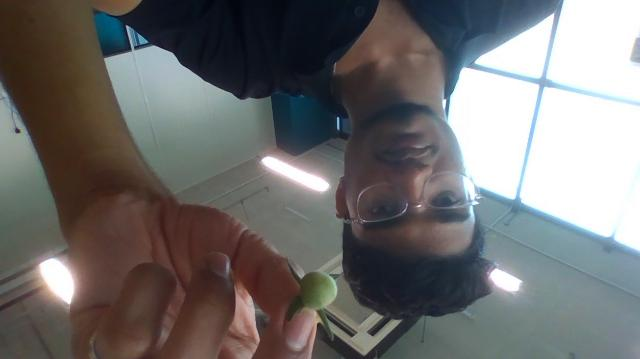Fruit Maturation: (297, 271, 337, 312)
